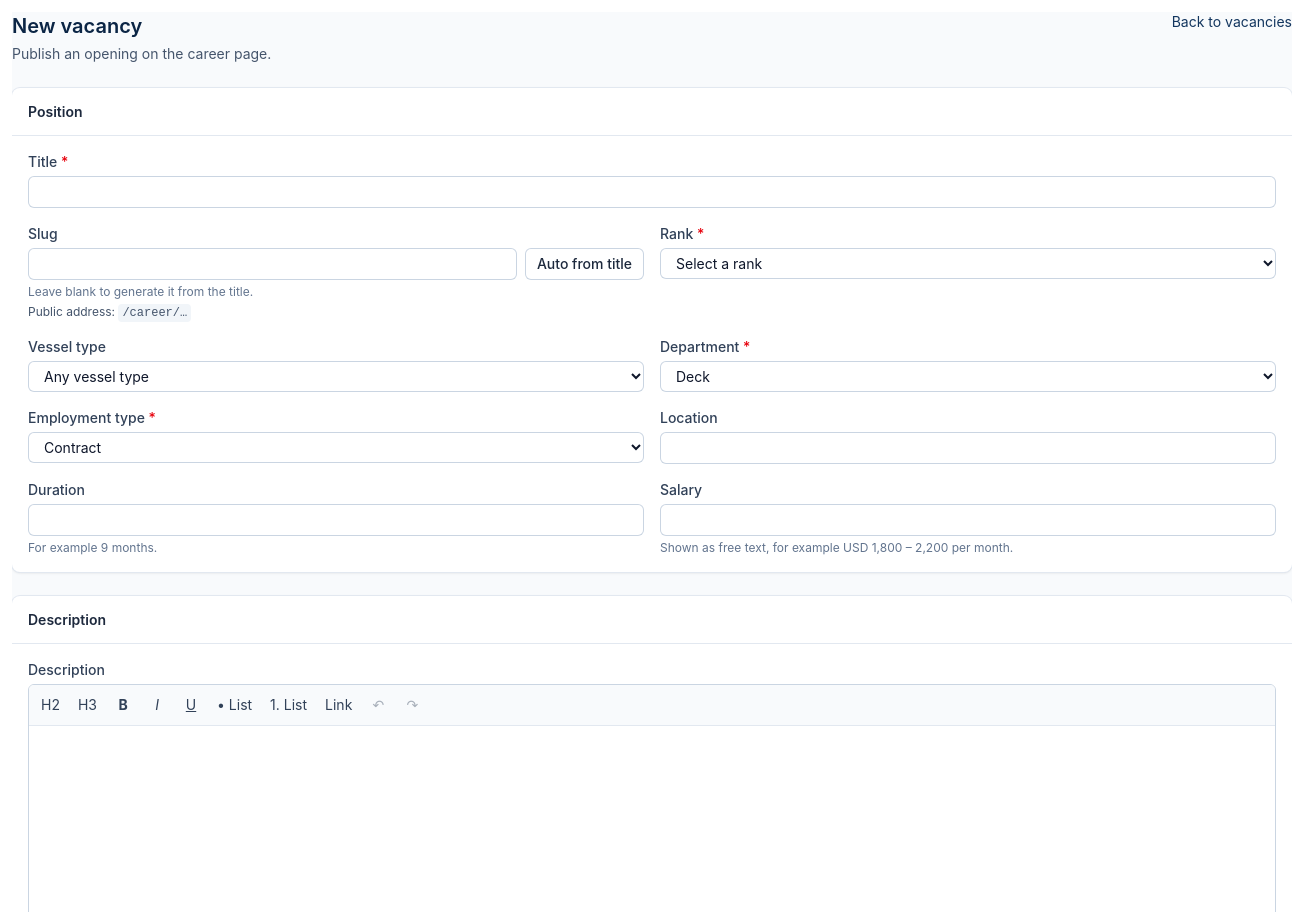
Test: VacancyFormPage › previews the public address derived from the title while the slug is blank
The width and height of the screenshot is (1304, 912).
Type "Third Officer & Crew" into the field labelled "Title *".
click(652, 192); type("Third Officer & Crew")  # box [28,176,1276,208]
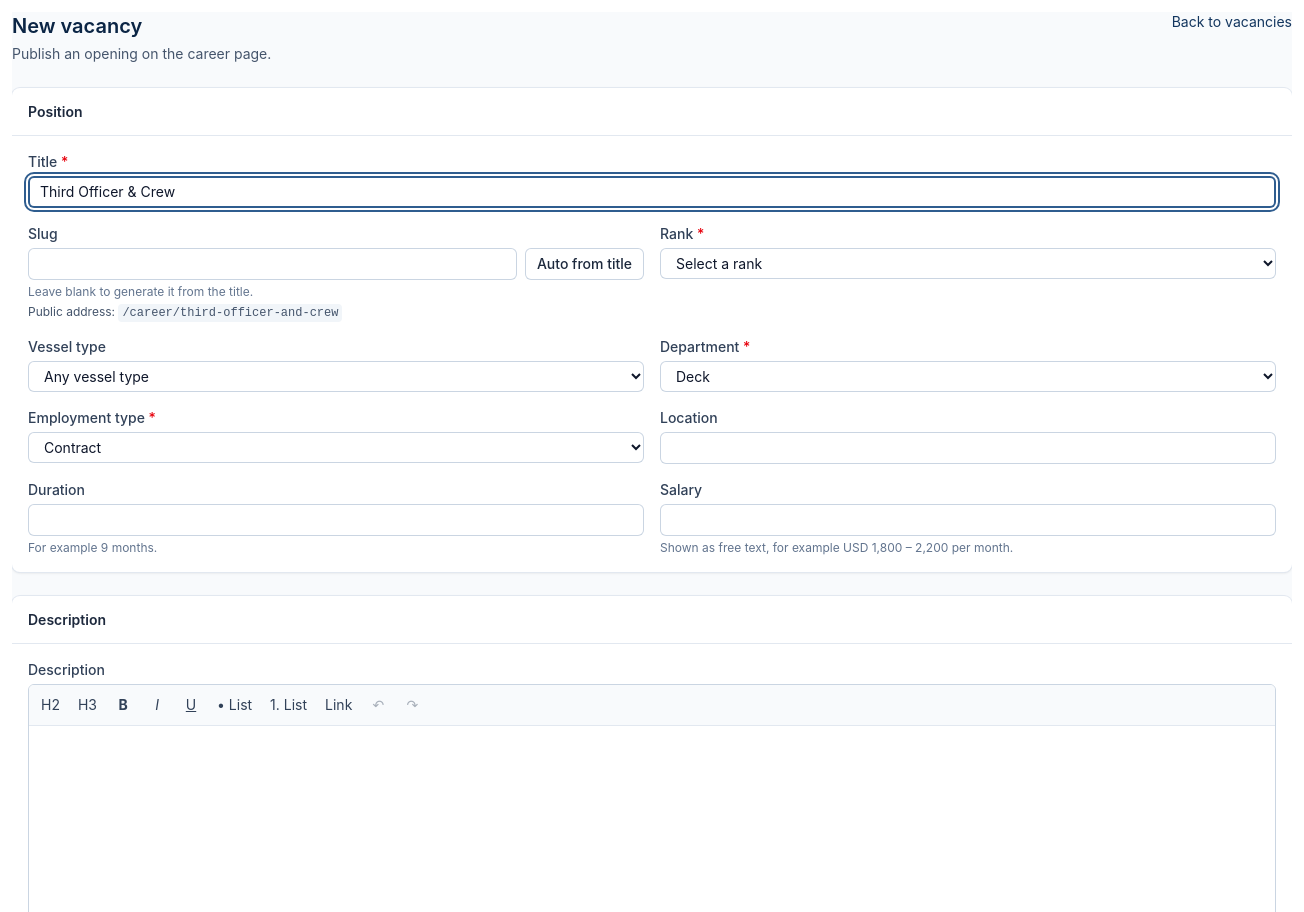
Expected: the text with test id "slug-preview" reads "/career/third-officer-and-crew", [122,306,338,320]
